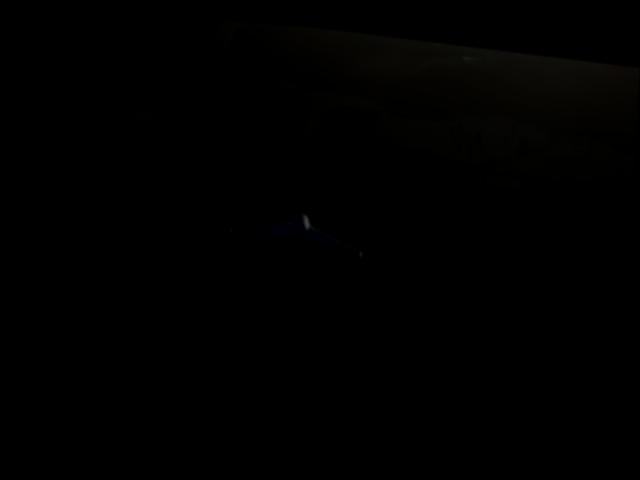iha: (228, 194, 364, 256)
